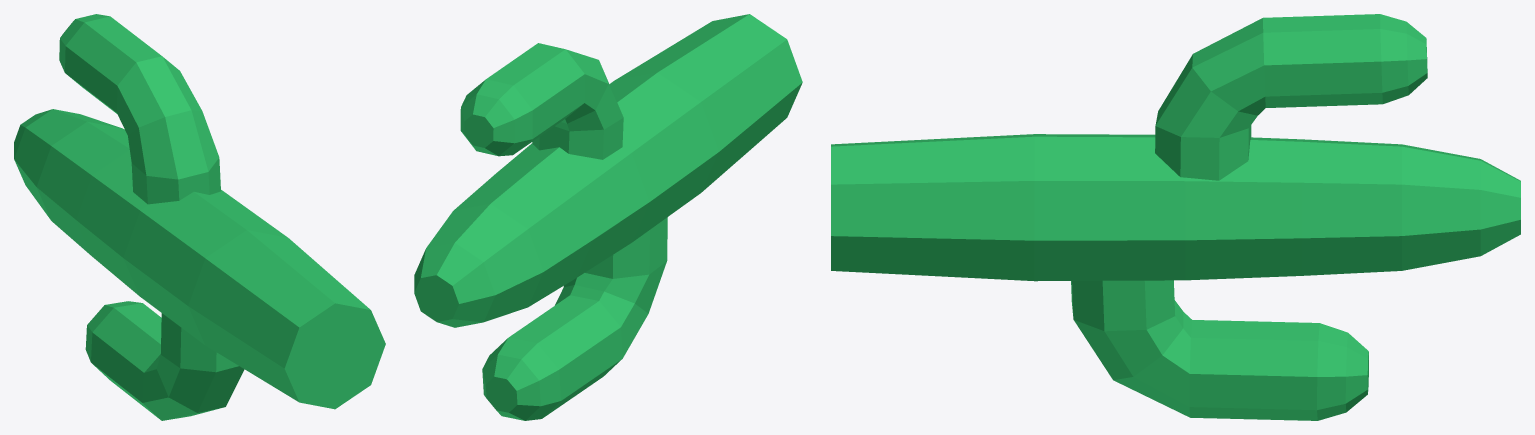
The model's file is BigCactus_2.fbx.
The picture shows the model from 3 angles, left to right: view 1: azimuth 30°, elevation 25°; view 2: azimuth 150°, elevation 25°; view 3: azimuth 270°, elevation 25°; orthographic projection. The views are drawn at different scales.
Visible parts, largest first — view 1: BigCactus_2; view 2: BigCactus_2; view 3: BigCactus_2.
Part boxes in pixels (x1=…): BigCactus_2: x1=14, y1=14, x2=385, y2=420; BigCactus_2: x1=414, y1=14, x2=802, y2=420; BigCactus_2: x1=831, y1=14, x2=1520, y2=420.
Bounding box in the file's own units: 72.17 × 199 × 318.
